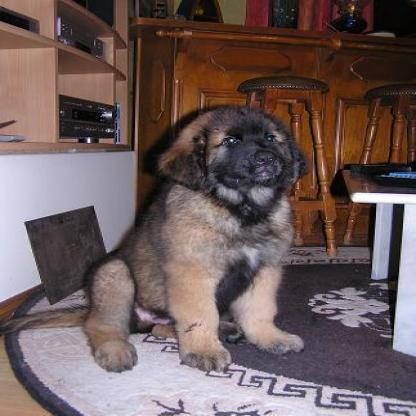Leonberg: (0, 104, 305, 373)
